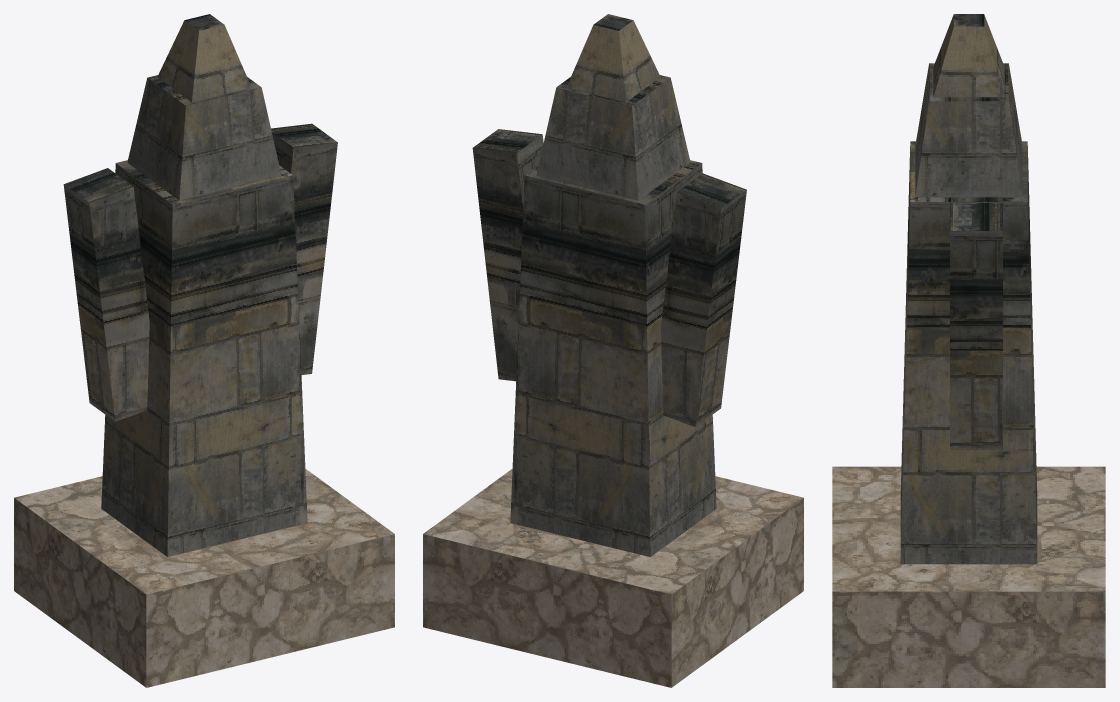
File: temple_statue_guardian_02.glb
3 renders of one model, left to right at view 1: azimuth 30°, elevation 25°; view 2: azimuth 150°, elevation 25°; view 3: azimuth 270°, elevation 25°, orthographic. The views are drawn at different scales.
Visible parts, largest first — view 1: temple_statue_guardian_02; view 2: temple_statue_guardian_02; view 3: temple_statue_guardian_02.
Boxes of the visible parts, bbox=[...] form: temple_statue_guardian_02: bbox=[14, 14, 394, 687]; temple_statue_guardian_02: bbox=[423, 14, 803, 687]; temple_statue_guardian_02: bbox=[832, 14, 1105, 687].
Size of the model in its own units: 0.7804 by 1.76 by 0.72.
Materials: 2 (2 with a texture image).
